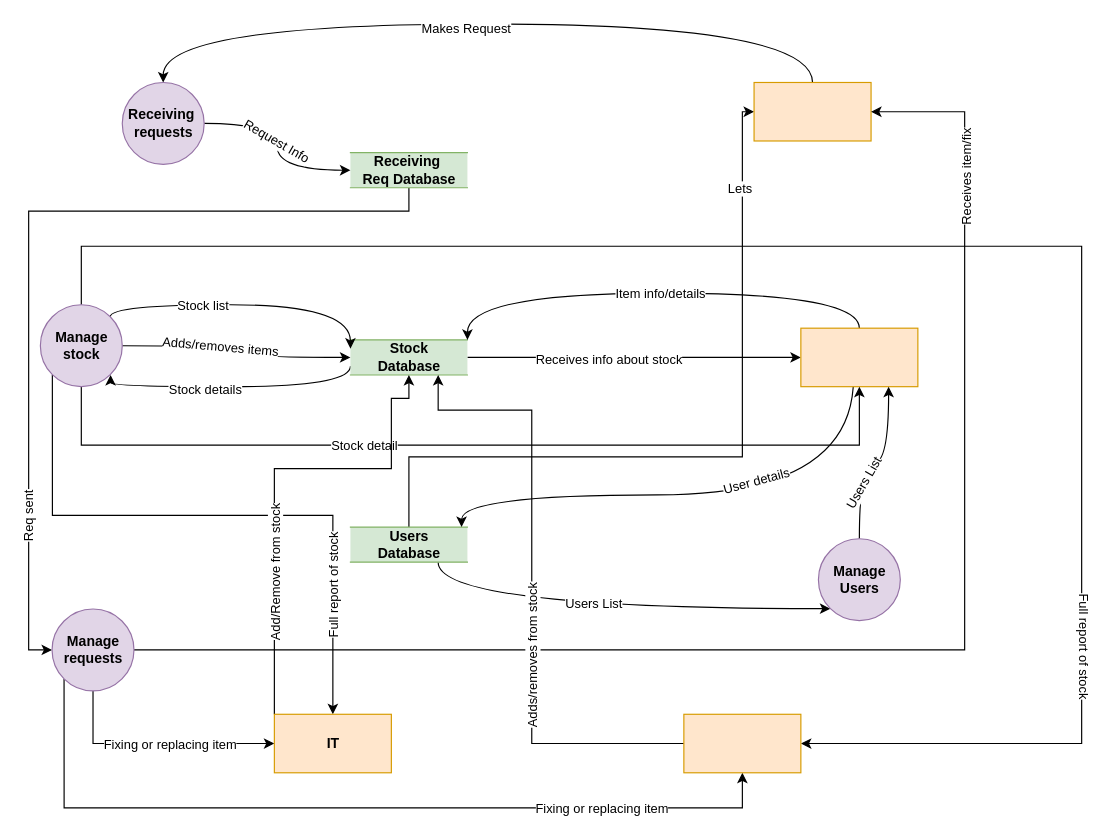
Some shapes in this 1113 by 838 pixel diagram are drawn without their labels. The centre of each missing label's shape, as x and y in pixels:
"HR" belongs at pixel 859 357.
"Services" belongs at pixel 742 743.
"User" belongs at pixel 812 111.
